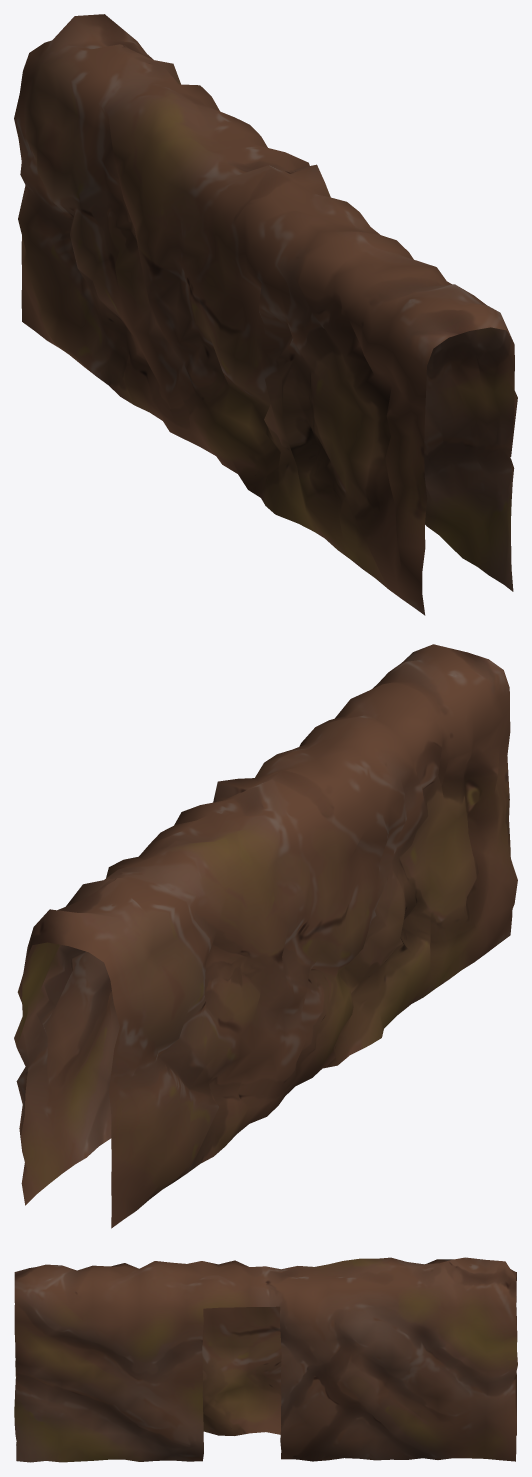
File: HW_withHoleFinal (1).FBX
3 views of the same model, one above another, from view 1: azimuth 30°, elevation 25°; view 2: azimuth 150°, elevation 25°; view 3: azimuth 270°, elevation 25° (orthographic). The views are drawn at different scales.
Visible parts, largest first — view 1: CD_Cave_hallpiece_normal_base; view 2: CD_Cave_hallpiece_normal_base; view 3: CD_Cave_hallpiece_normal_base.
Boxes of the visible parts, x1=… form: CD_Cave_hallpiece_normal_base: x1=14, y1=14, x2=517, y2=615; CD_Cave_hallpiece_normal_base: x1=14, y1=644, x2=517, y2=1228; CD_Cave_hallpiece_normal_base: x1=14, y1=1257, x2=517, y2=1462.
Bounding box in the file's own units: 2.91 × 5.76 × 13.83.
